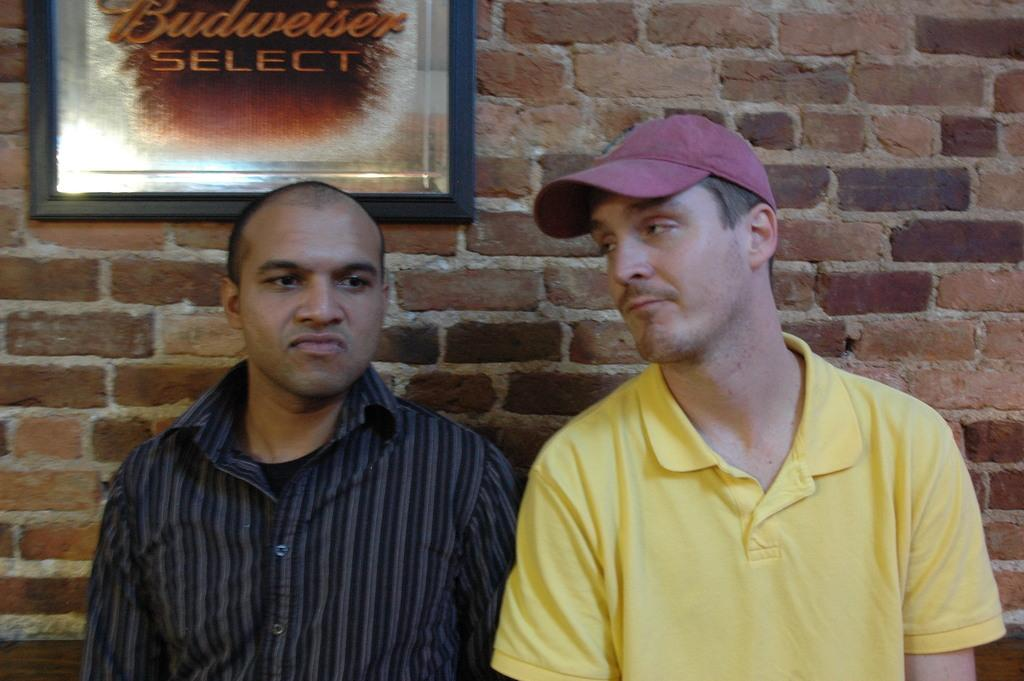Hat: (532, 112, 773, 241)
